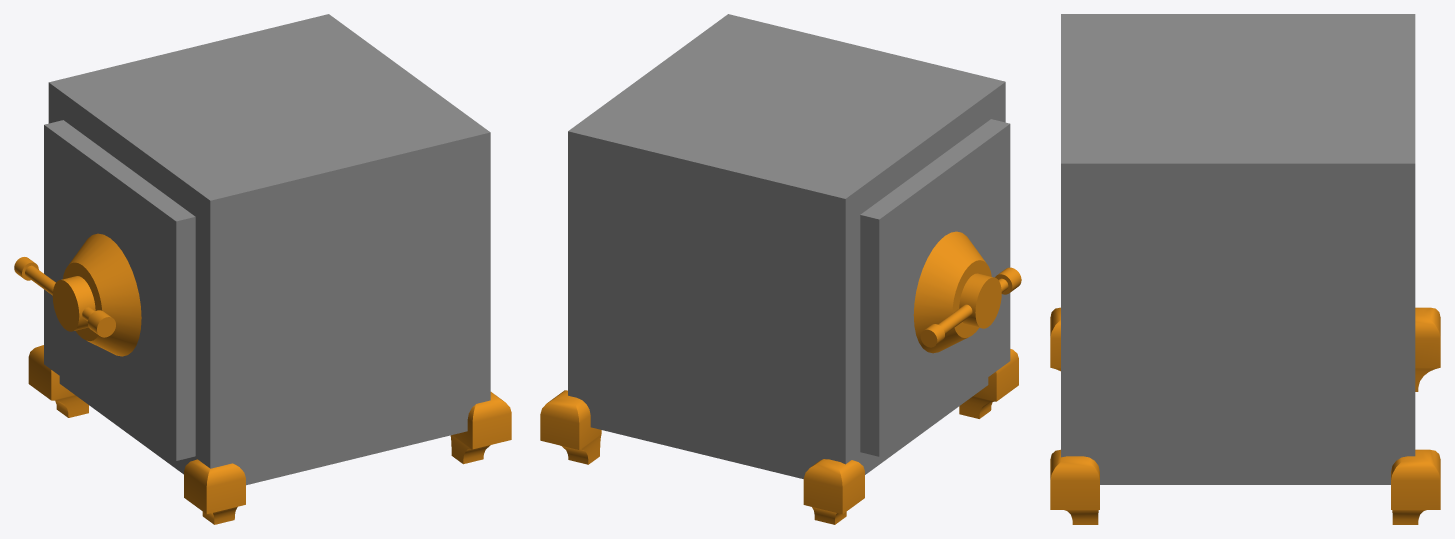
Rendered from alexc_safe.fbx.
3 renders of one model, left to right at view 1: azimuth 30°, elevation 25°; view 2: azimuth 150°, elevation 25°; view 3: azimuth 270°, elevation 25°, orthographic. The views are drawn at different scales.
Parts seen in each view (by area): view 1: vault; view 2: vault; view 3: vault.
Boxes of the visible parts, x1,y1,x2,y2 form: vault: (14,14,511,524); vault: (540,14,1021,524); vault: (1050,14,1440,524).
Bounding box in the file's own units: 258 × 220 × 225.
